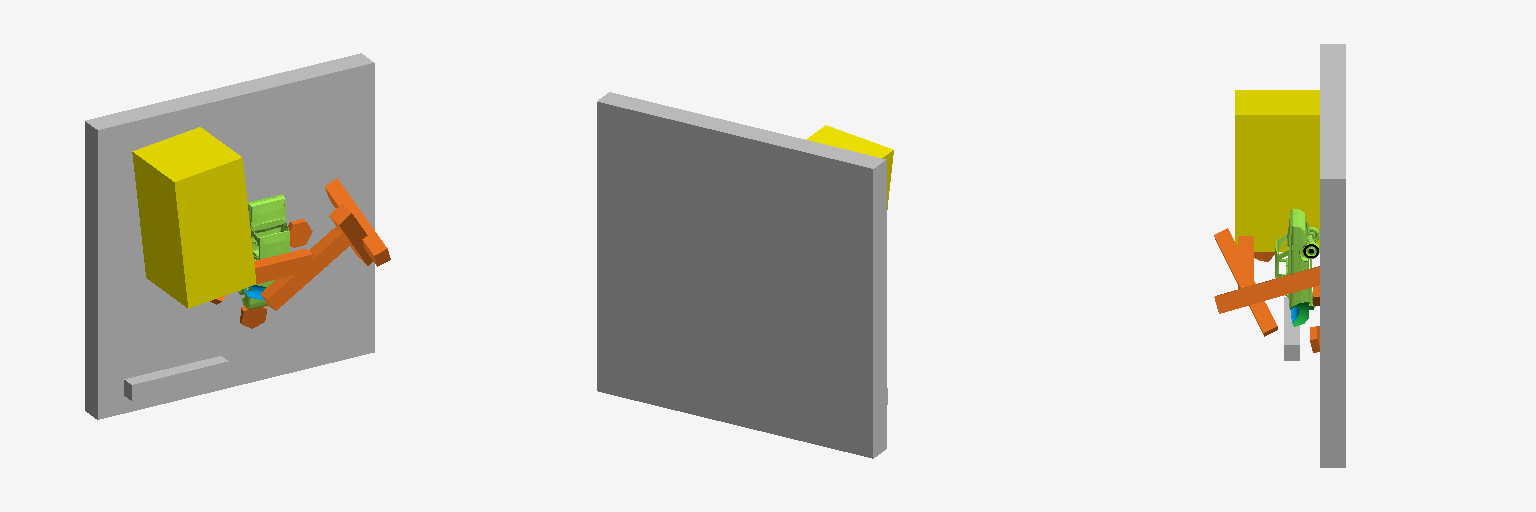
File: tbx_Moskvitch.obj
3 views of the same model, side by side, from view 1: azimuth 30°, elevation 25°; view 2: azimuth 150°, elevation 25°; view 3: azimuth 270°, elevation 25° (orthographic).
Parts seen in each view (by area): view 1: Object.4, Object.3, Object.7, Object.6, Object.5; view 2: Object.4, Object.3; view 3: Object.3, Object.4, Object.7, Object.6, Object.5.
Boxes of the visible parts, box(x1,y1,x2,y2) form: Object.4: box(85, 53, 374, 419); Object.3: box(132, 127, 255, 308); Object.7: box(254, 178, 390, 310); Object.6: box(238, 194, 289, 308); Object.5: box(124, 356, 228, 400); Object.4: box(597, 92, 886, 458); Object.3: box(806, 125, 893, 209); Object.3: box(1235, 90, 1319, 251); Object.4: box(1320, 44, 1345, 467); Object.7: box(1214, 228, 1319, 336); Object.6: box(1275, 209, 1319, 326); Object.5: box(1284, 297, 1299, 360).
Size of the model in its own units: 30887 by 30888 by 12738.